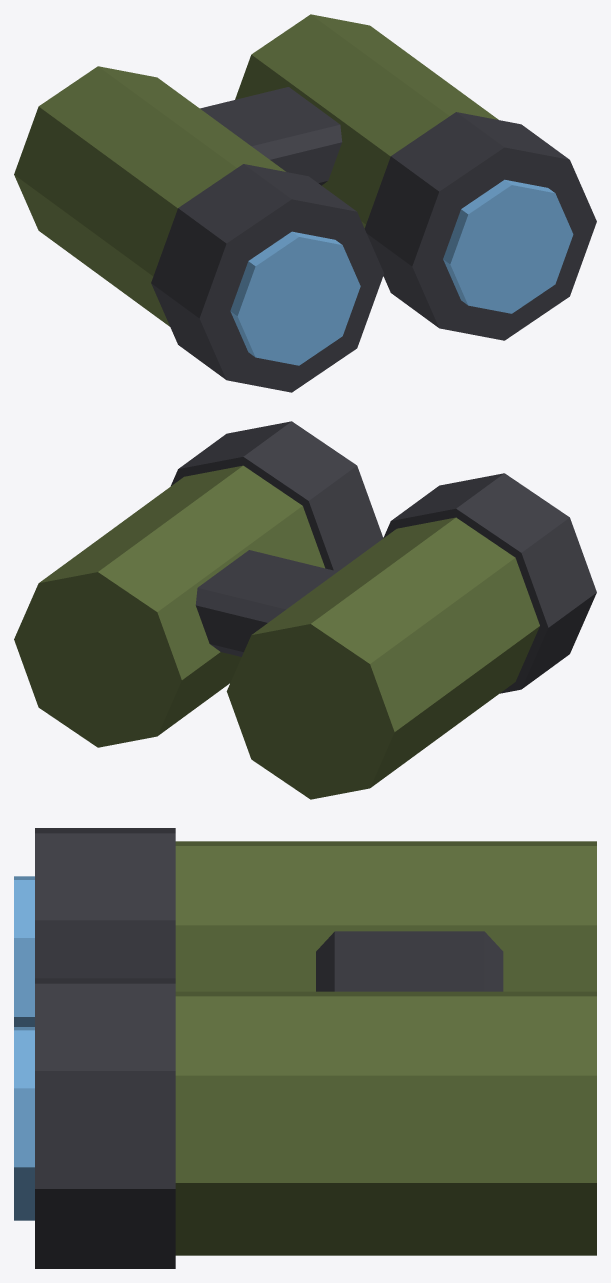
File: Binoculars.fbx
The picture shows the model from 3 angles, top to bottom: view 1: azimuth 30°, elevation 25°; view 2: azimuth 150°, elevation 25°; view 3: azimuth 270°, elevation 25°; orthographic projection. The views are drawn at different scales.
Parts seen in each view (by area): view 1: Binoculars; view 2: Binoculars; view 3: Binoculars.
Boxes of the visible parts, x1,y1,x2,y2 form: Binoculars: (14,14,596,392); Binoculars: (14,421,596,799); Binoculars: (14,828,596,1268).
Size of the model in its own units: 1.42 by 0.66 by 1.25.
Materials: 1 (1 with a texture image).
